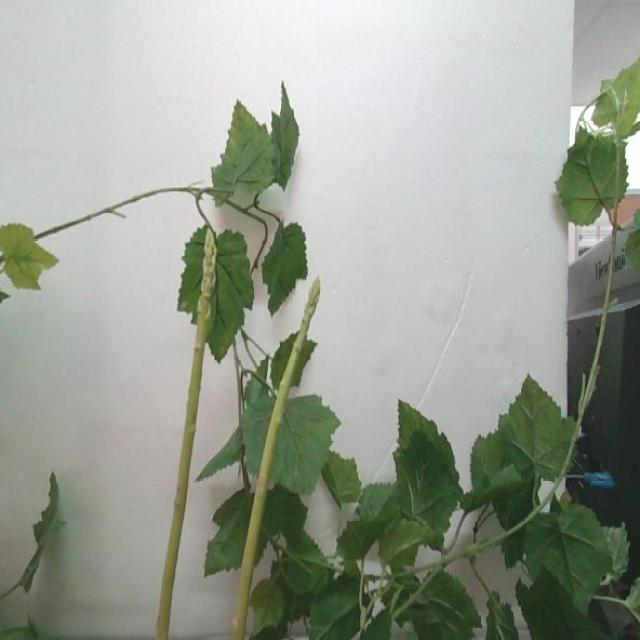aspargus: (232, 273, 321, 640), (152, 226, 218, 640)
